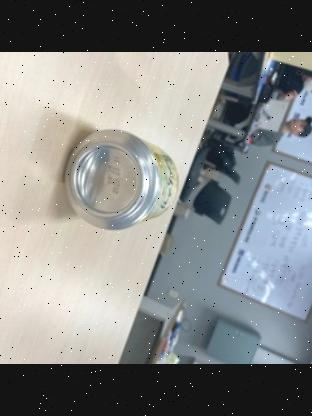Can: (58, 126, 184, 232)
